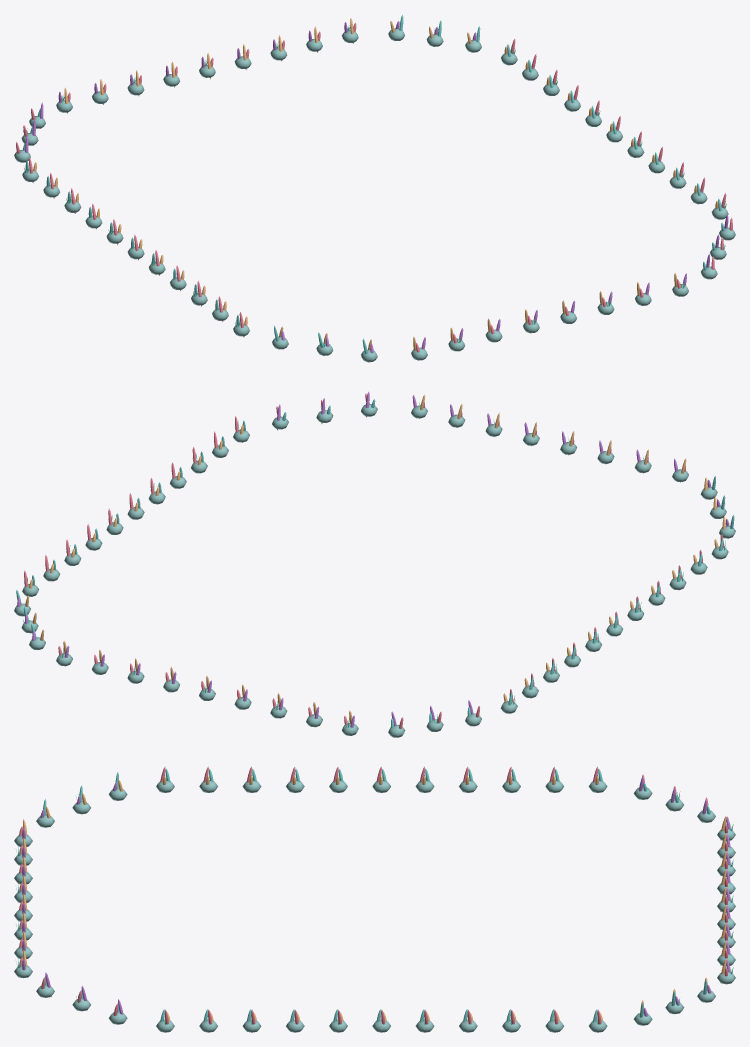
The model's file is reef-28-easvPees.glb.
The picture shows the model from 3 angles, top to bottom: view 1: azimuth 30°, elevation 25°; view 2: azimuth 150°, elevation 25°; view 3: azimuth 270°, elevation 25°; orthographic projection. The views are drawn at different scales.
Parts seen in each view (by area): view 1: ReefRock, Coral0, Coral2, Coral3, Coral1; view 2: ReefRock, Coral2, Coral0, Coral3, Coral1; view 3: ReefRock, Coral0, Coral2, Coral3, Coral1.
Boxes of the visible parts, <box> form: ReefRock: <box>14,28,735,362</box>; Coral0: <box>16,23,732,352</box>; Coral2: <box>33,18,718,350</box>; Coral3: <box>22,15,724,353</box>; Coral1: <box>25,21,728,353</box>; ReefRock: <box>14,404,735,737</box>; Coral2: <box>25,394,725,723</box>; Coral0: <box>24,393,724,728</box>; Coral3: <box>16,399,734,727</box>; Coral1: <box>17,391,729,727</box>; ReefRock: <box>14,780,735,1032</box>; Coral0: <box>19,766,727,1024</box>; Coral2: <box>23,776,726,1021</box>; Coral3: <box>43,769,710,1021</box>; Coral1: <box>22,776,730,1023</box>.
Size of the model in its own units: 43 by 2.06 by 53.1.
